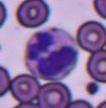N: (24, 28, 79, 80)
